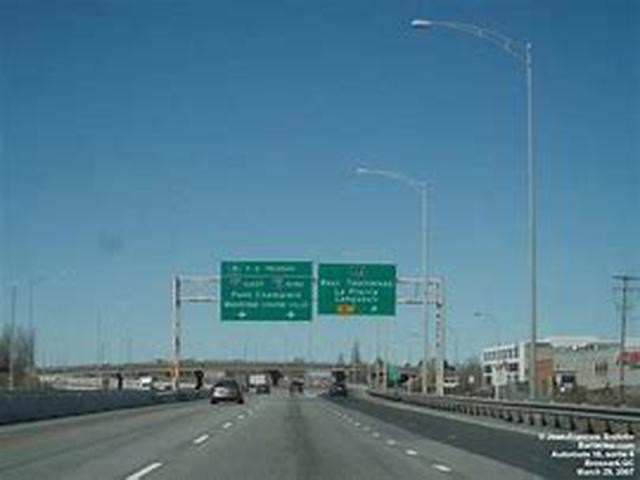autre: (220, 260, 312, 320), (319, 263, 397, 315)
